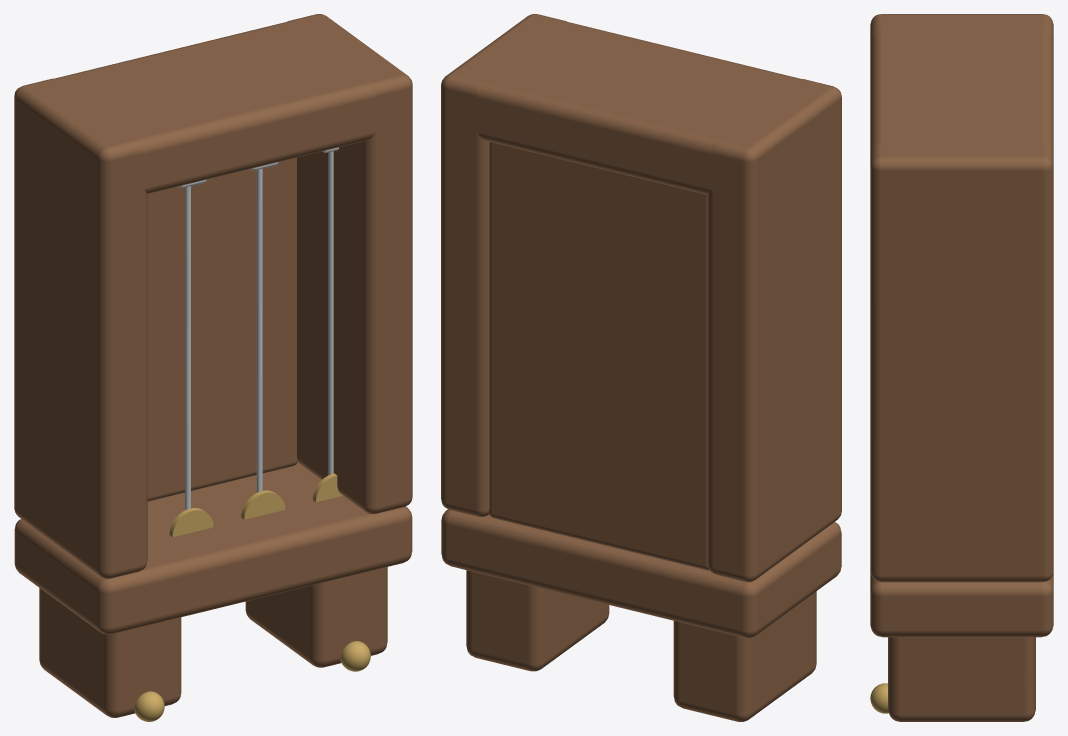
File: clockmaker-and-watch-repair-pendulum-suspension-rack-bfea6623__30641.glb
3 views of the same model, side by side, from view 1: azimuth 30°, elevation 25°; view 2: azimuth 150°, elevation 25°; view 3: azimuth 270°, elevation 25° (orthographic). The views are drawn at different scales.
Parts seen in each view (by area): view 1: pendulum-suspension-rack; view 2: pendulum-suspension-rack; view 3: pendulum-suspension-rack.
Part boxes in pixels (left/top/right/bottom): pendulum-suspension-rack: left=14, top=14, right=412, bottom=721; pendulum-suspension-rack: left=441, top=14, right=841, bottom=721; pendulum-suspension-rack: left=870, top=14, right=1053, bottom=721.
Size of the model in its own units: 0.35 by 0.625 by 0.18.
